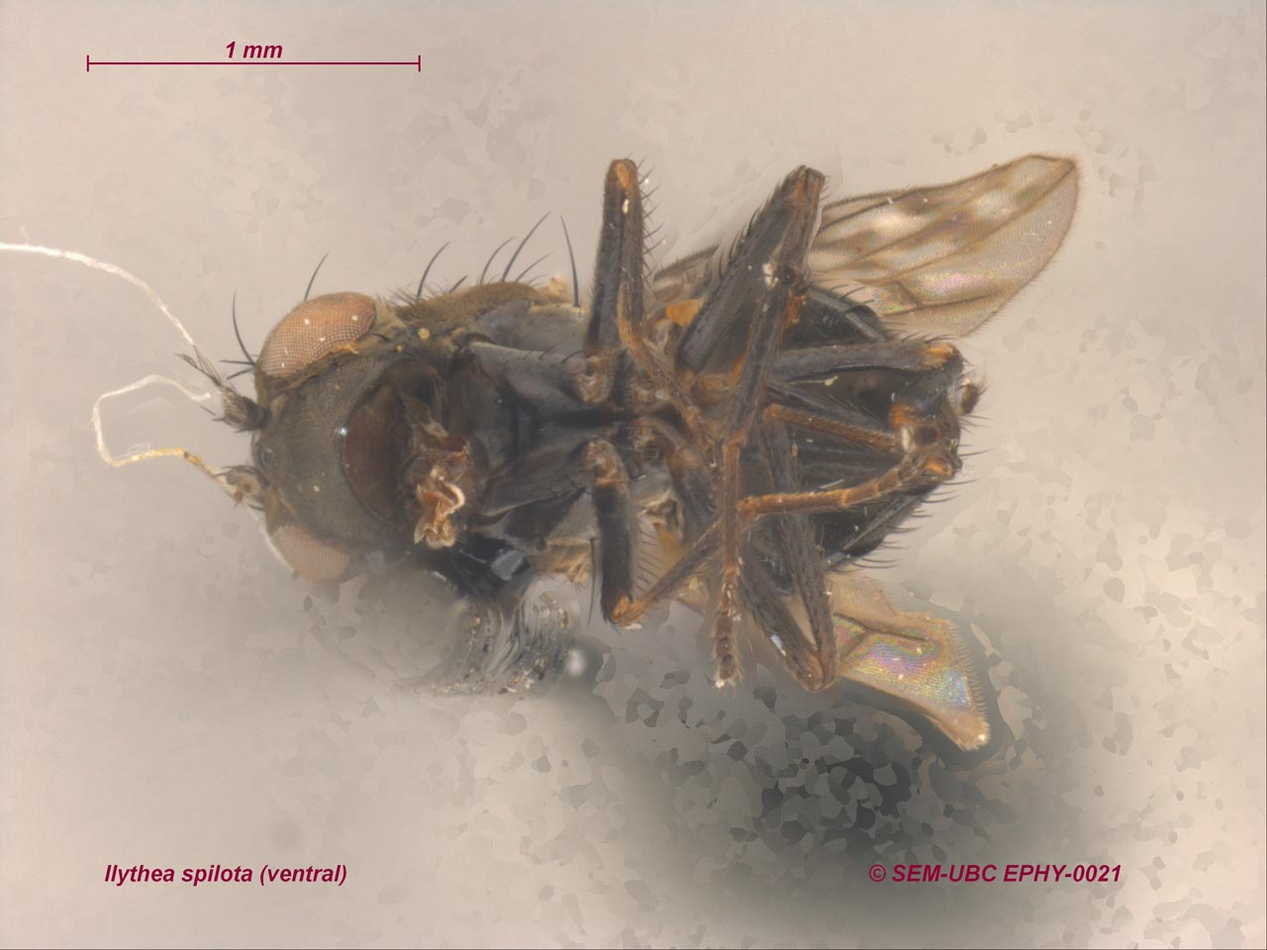Ephydridae: (185, 149, 1103, 746)
